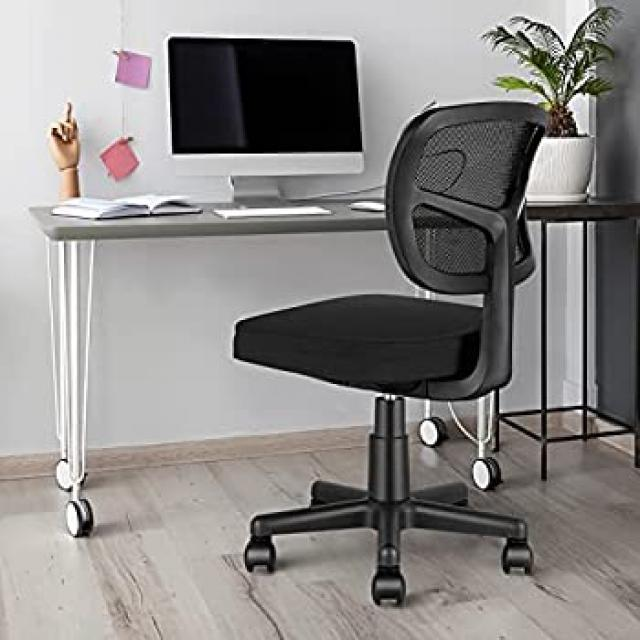chair: (218, 68, 568, 630)
